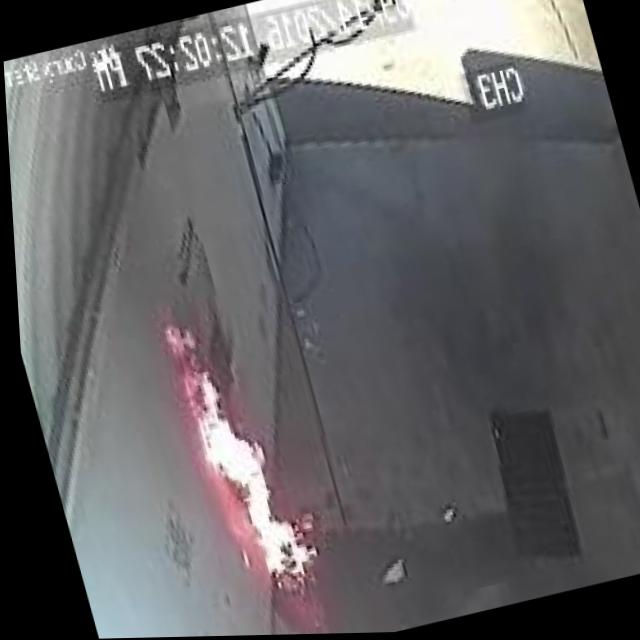fire: (147, 292, 323, 607)
